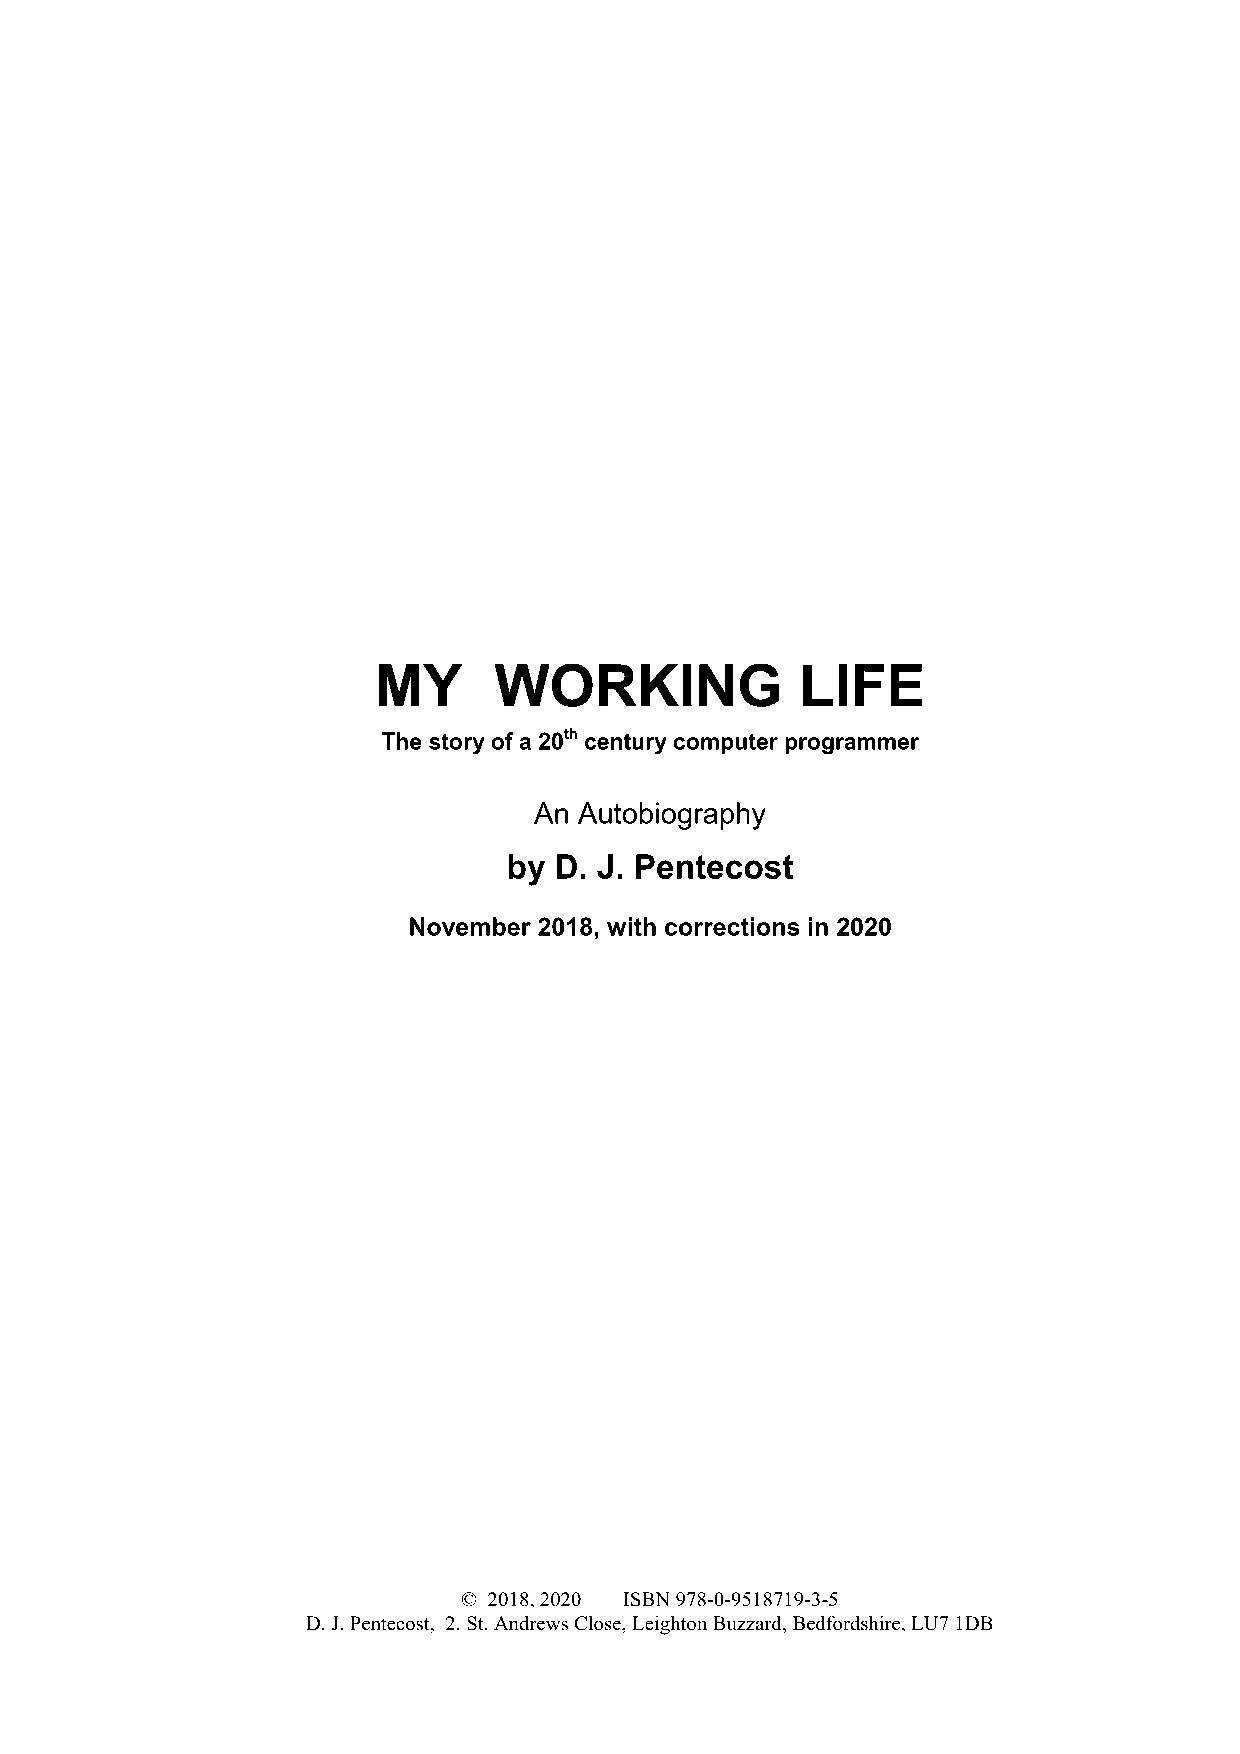author: (505, 851, 794, 888)
title: (374, 659, 923, 709)
